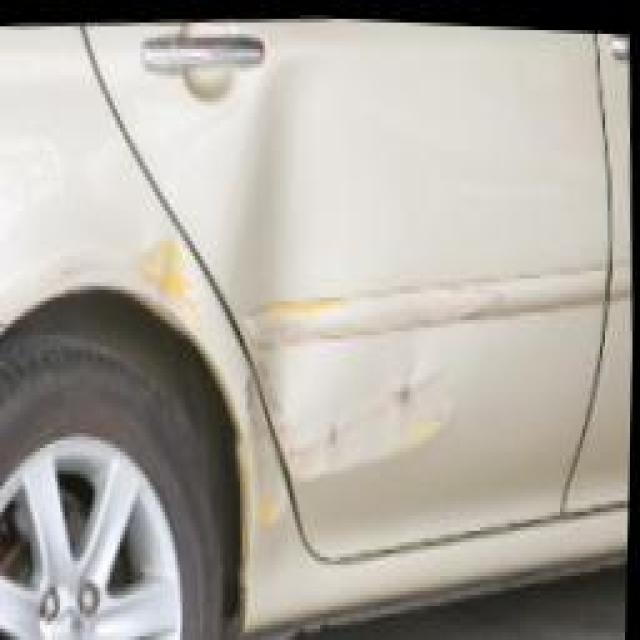Door: (164, 22, 563, 498)
Fender: (70, 205, 340, 622)
